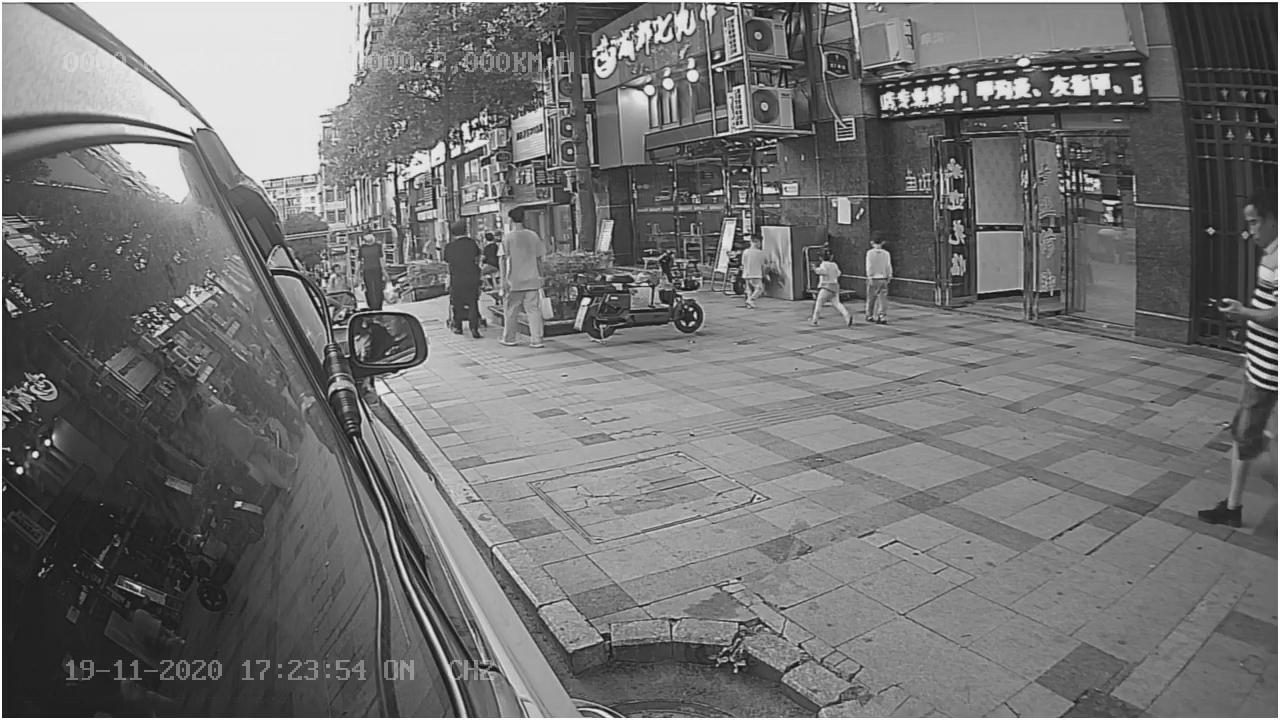person: (489, 204, 550, 355), (433, 210, 490, 339), (806, 244, 859, 330), (859, 230, 898, 330), (731, 230, 769, 301)
